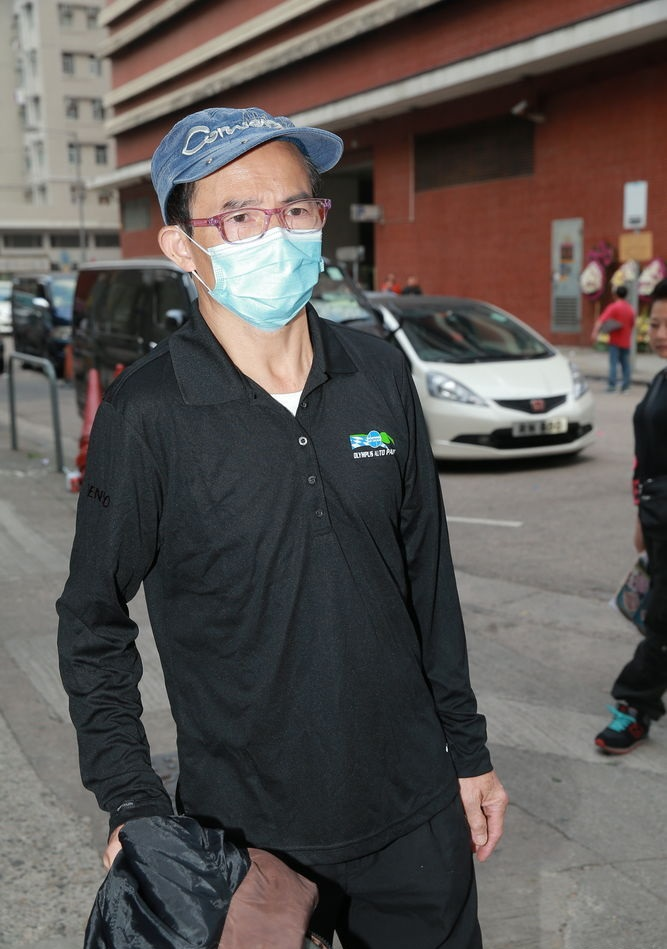face_mask: (198, 132, 317, 323), (650, 300, 666, 363)
